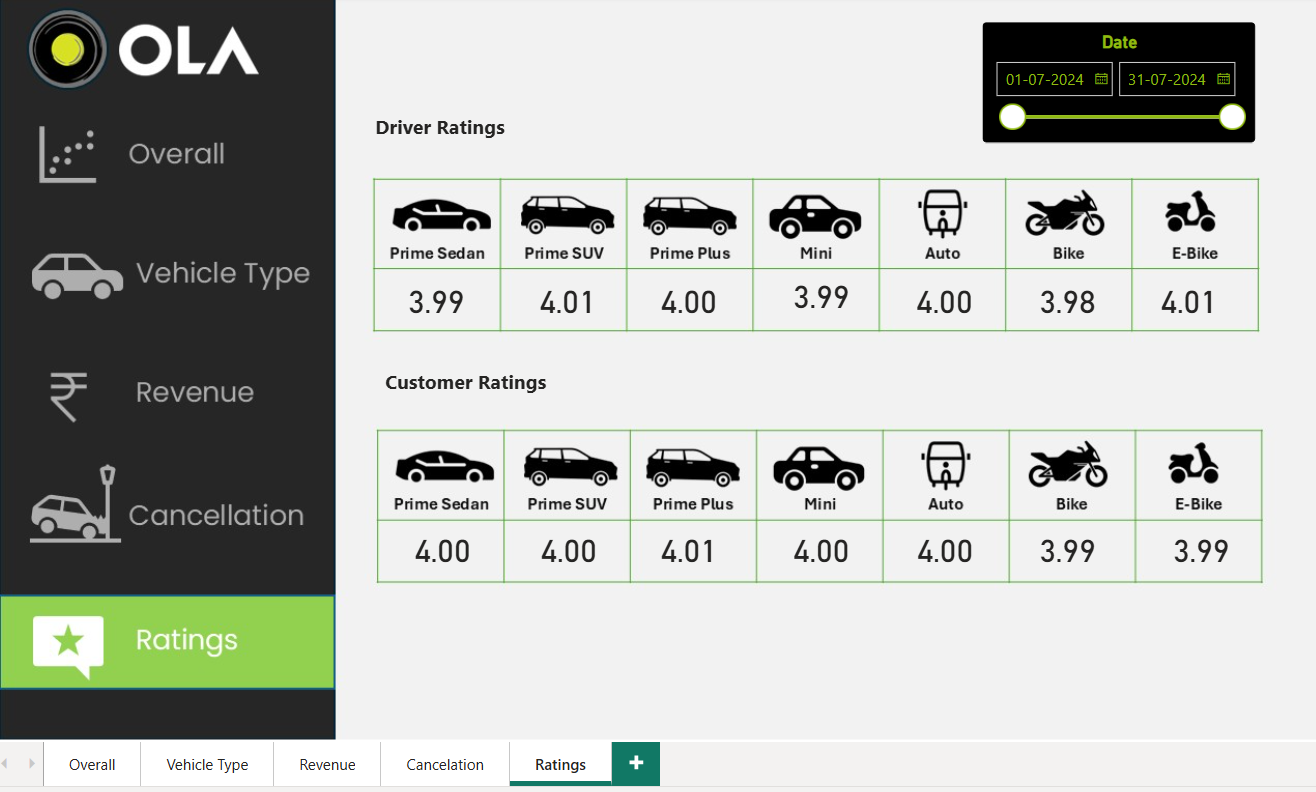

What the dashboard file says about the page in this screenshot:
{"tool":"powerbi","page":{"name":"Ratings","canvas":[1280,720],"ordinal":4},"visuals":[{"type":"actionButton","box":[0,450,323.3,89.3],"z":0},{"type":"actionButton","box":[0,108.6,323.3,92.9],"z":1000},{"type":"actionButton","box":[0,340.2,323.3,92.9],"z":2000},{"type":"actionButton","box":[0,222,323.3,92.9],"z":3000},{"type":"card","fields":{"Values":["Avg(July.Driver_Ratings)"]},"box":[356.6,257.7,128.2,69.7],"z":4000},{"type":"card","fields":{"Values":["Avg(July.Driver_Ratings)"]},"box":[600.4,257.7,128.2,69.7],"z":5000},{"type":"card","fields":{"Values":["Avg(July.Driver_Ratings)"]},"box":[728.6,253.5,128.2,69.7],"z":6000},{"type":"card","fields":{"Values":["Avg(July.Driver_Ratings)"]},"box":[856.8,257.7,110.1,69.7],"z":7000},{"type":"card","fields":{"Values":["Avg(July.Driver_Ratings)"]},"box":[966.8,257.7,128.2,69.7],"z":8000},{"type":"card","fields":{"Values":["Avg(July.Driver_Ratings)"]},"box":[1083.9,257.7,128.2,69.7],"z":9000},{"type":"card","fields":{"Values":["Avg(July.Driver_Ratings)"]},"box":[483.4,257.7,128.2,69.7],"z":10000},{"type":"card","fields":{"Values":["Avg(July.Customer_Rating)"]},"box":[363.6,504.3,128.2,59.9],"z":11000},{"type":"textbox","box":[356.6,108.7,142.1,62.7],"z":12000},{"type":"textbox","box":[366.4,355.2,197.8,62.7],"z":12001},{"type":"card","fields":{"Values":["Avg(July.Customer_Rating)"]},"box":[728.6,504.3,128.2,59.9],"z":12004},{"type":"card","fields":{"Values":["Avg(July.Customer_Rating)"]},"box":[848.4,504.3,128.2,59.9],"z":12005},{"type":"card","fields":{"Values":["Avg(July.Customer_Rating)"]},"box":[966.8,504.3,128.2,59.9],"z":12006},{"type":"card","fields":{"Values":["Avg(July.Customer_Rating)"]},"box":[1095,504.3,128.2,59.9],"z":12007},{"type":"card","fields":{"Values":["Avg(July.Customer_Rating)"]},"box":[484.8,504.3,128.2,59.9],"z":12008},{"type":"card","fields":{"Values":["Avg(July.Customer_Rating)"]},"box":[600.4,504.3,128.2,59.9],"z":12009},{"type":"slicer","title":"Date","fields":{"Values":["July.Date"]},"box":[948.7,25.1,263.3,115.6],"z":12010}]}

Visuals, with their boxes on the page's 1280x720 design canvas (x1, y1, x2, y2). These are canvas units, not pixel positions in the 1316x792 screenshot, which may show the page scaled, cropped or inside an application window:
actionButton: (left=0, top=450, right=323, bottom=539)
actionButton: (left=0, top=109, right=323, bottom=202)
actionButton: (left=0, top=340, right=323, bottom=433)
actionButton: (left=0, top=222, right=323, bottom=315)
card - Avg(July.Driver_Ratings): (left=357, top=258, right=485, bottom=327)
card - Avg(July.Driver_Ratings): (left=600, top=258, right=729, bottom=327)
card - Avg(July.Driver_Ratings): (left=729, top=254, right=857, bottom=323)
card - Avg(July.Driver_Ratings): (left=857, top=258, right=967, bottom=327)
card - Avg(July.Driver_Ratings): (left=967, top=258, right=1095, bottom=327)
card - Avg(July.Driver_Ratings): (left=1084, top=258, right=1212, bottom=327)
card - Avg(July.Driver_Ratings): (left=483, top=258, right=612, bottom=327)
card - Avg(July.Customer_Rating): (left=364, top=504, right=492, bottom=564)
textbox: (left=357, top=109, right=499, bottom=171)
textbox: (left=366, top=355, right=564, bottom=418)
card - Avg(July.Customer_Rating): (left=729, top=504, right=857, bottom=564)
card - Avg(July.Customer_Rating): (left=848, top=504, right=977, bottom=564)
card - Avg(July.Customer_Rating): (left=967, top=504, right=1095, bottom=564)
card - Avg(July.Customer_Rating): (left=1095, top=504, right=1223, bottom=564)
card - Avg(July.Customer_Rating): (left=485, top=504, right=613, bottom=564)
card - Avg(July.Customer_Rating): (left=600, top=504, right=729, bottom=564)
"Date" slicer: (left=949, top=25, right=1212, bottom=141)
